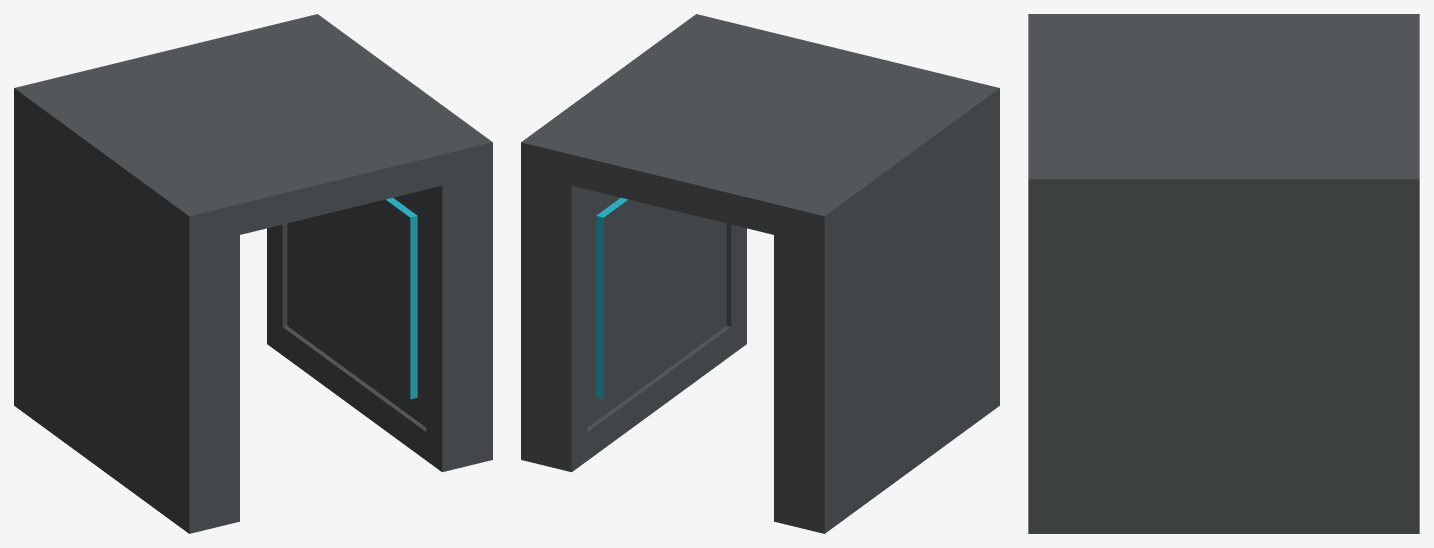
The model's file is EspacioContenidoScrollTunelBajoNI.gltf.
3 renders of one model, left to right at view 1: azimuth 30°, elevation 25°; view 2: azimuth 150°, elevation 25°; view 3: azimuth 270°, elevation 25°, orthographic. The views are drawn at different scales.
Visible parts, largest first — view 1: Cubo.6; view 2: Cubo.6; view 3: Cubo.6.
Boxes of the visible parts, <box> form: Cubo.6: <box>14,14,492,533</box>; Cubo.6: <box>521,14,999,533</box>; Cubo.6: <box>1028,14,1419,533</box>.
Bounding box in the file's own units: 2 × 2 × 2.
1 material, 1 textured.
